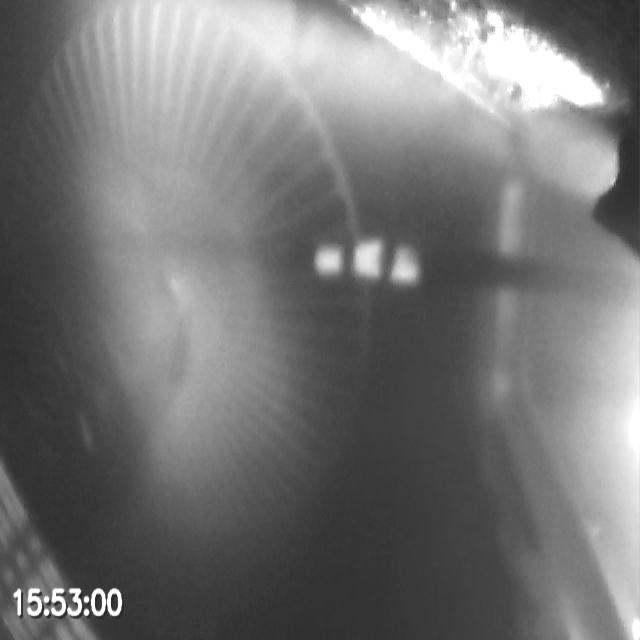white-dots: (312, 236, 421, 286)
